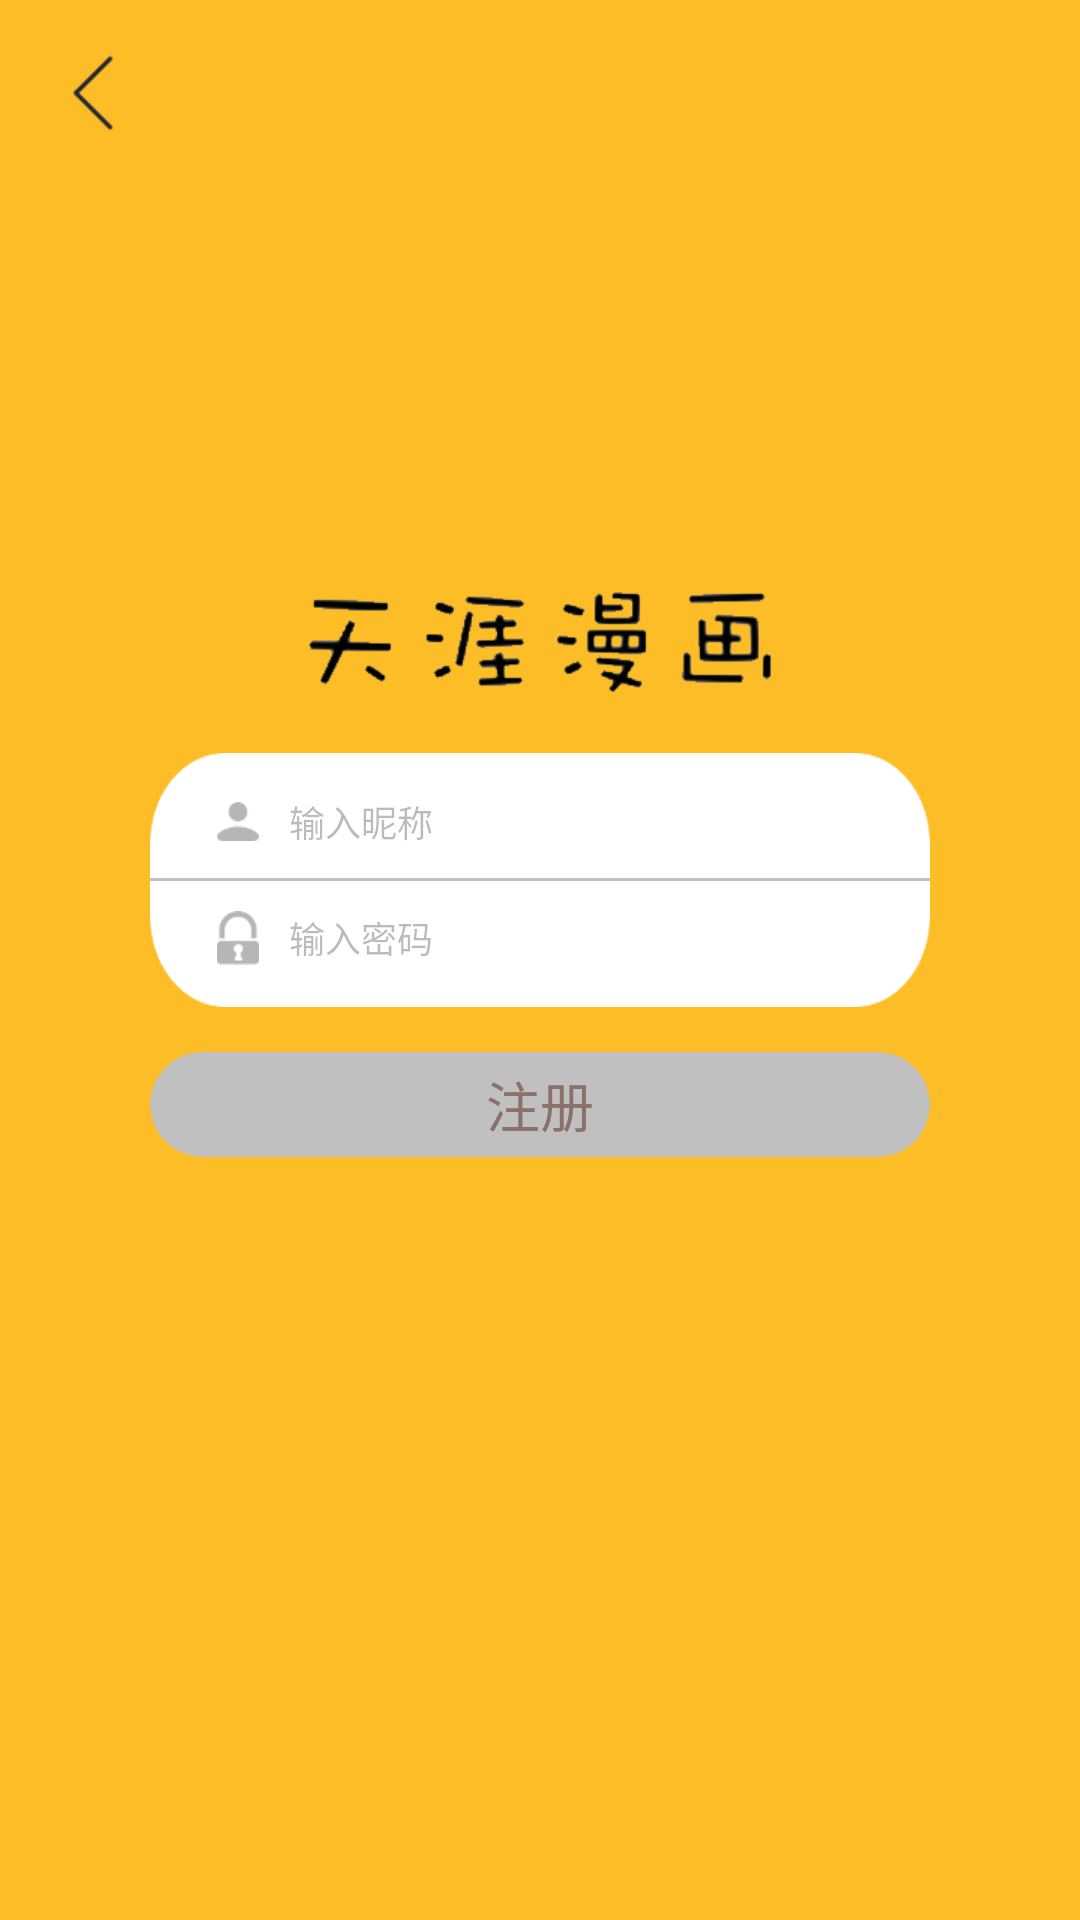

Icon click points for this 1080*1920 phone screenshot, format point (x, y):
back: point (93, 93)
